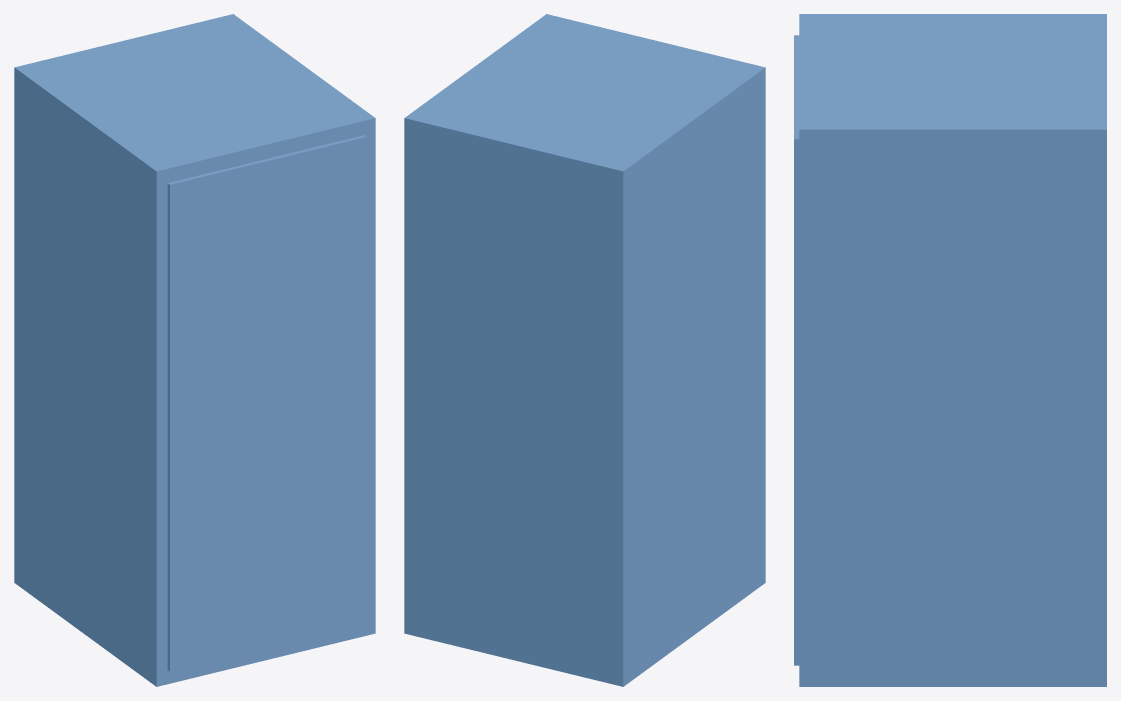
Rendered from server-rack.glb.
3 views of the same model, side by side, from view 1: azimuth 30°, elevation 25°; view 2: azimuth 150°, elevation 25°; view 3: azimuth 270°, elevation 25° (orthographic). The views are drawn at different scales.
Parts seen in each view (by area): view 1: CyberDomeAsset; view 2: CyberDomeAsset; view 3: CyberDomeAsset.
Boxes of the visible parts, bbox=[...] form: CyberDomeAsset: bbox=[14, 14, 375, 686]; CyberDomeAsset: bbox=[404, 14, 765, 686]; CyberDomeAsset: bbox=[794, 14, 1106, 686].
Bounding box in the file's own units: 0.8 × 1.8 × 0.915.
